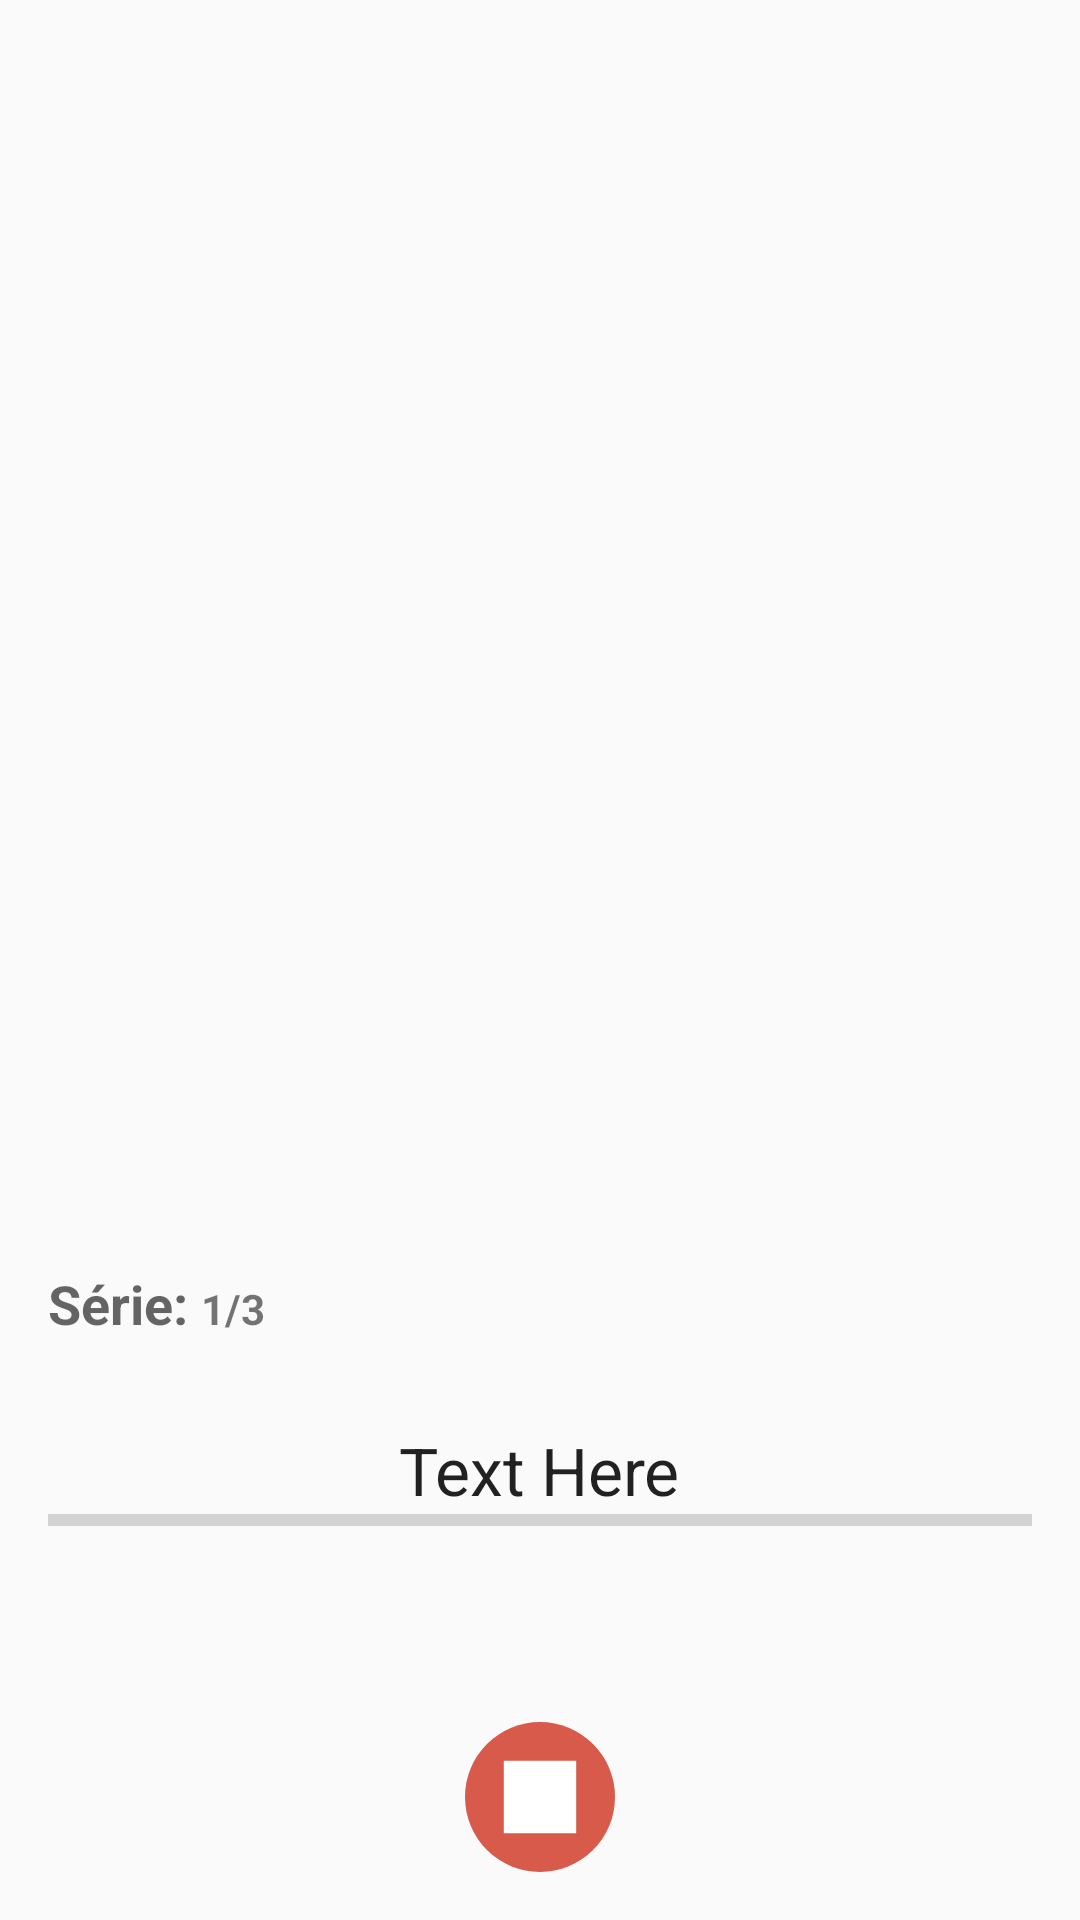

Icons on this 1080px x 1920px Android screen, each with its box as bbox(x1, y1, x2, y2):
stop: bbox(465, 1722, 615, 1872)
